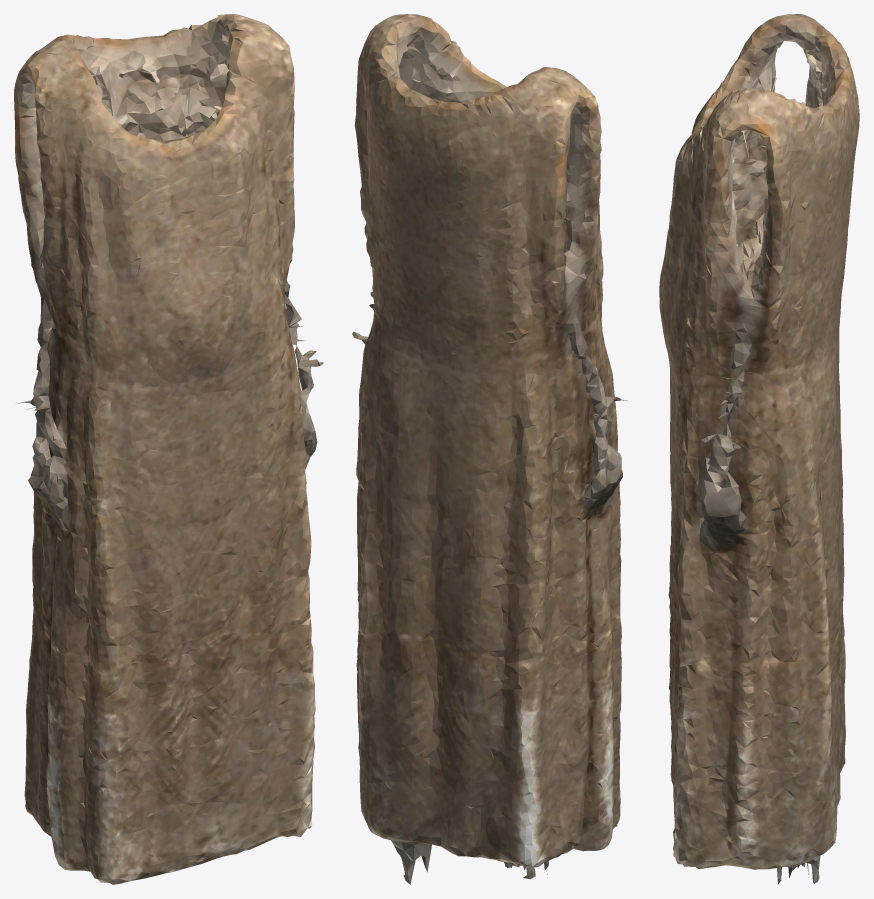
The picture shows the model from 3 angles, left to right: view 1: azimuth 30°, elevation 25°; view 2: azimuth 150°, elevation 25°; view 3: azimuth 270°, elevation 25°; orthographic projection. The views are drawn at different scales.
Visible parts, largest first — view 1: geometry_0; view 2: geometry_0; view 3: geometry_0.
Boxes of the visible parts, x1=… form: geometry_0: x1=14, y1=14, x2=323, y2=884; geometry_0: x1=352, y1=14, x2=627, y2=884; geometry_0: x1=659, y1=14, x2=859, y2=884.
Size of the model in its own units: 0.3566 by 1 by 0.2245.
1 material, 1 textured.
